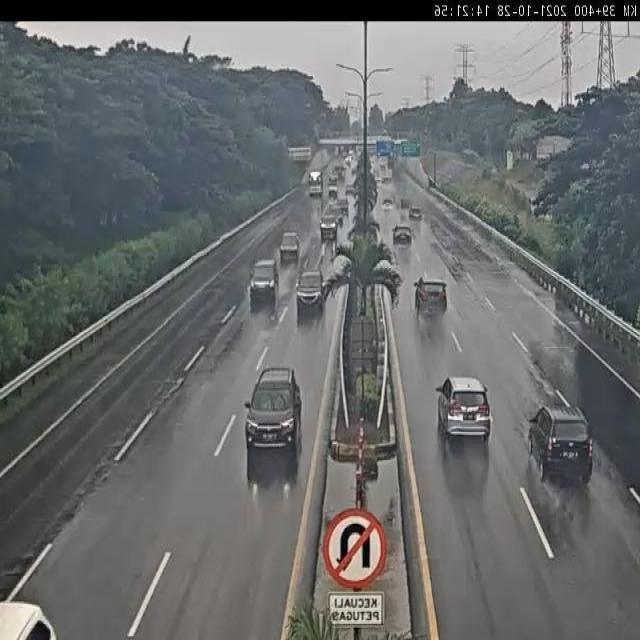Car: (527, 404, 595, 486), (241, 365, 300, 458), (435, 374, 491, 446), (411, 276, 447, 318), (248, 258, 280, 302), (295, 270, 326, 314), (279, 232, 301, 263), (391, 223, 413, 246), (408, 207, 422, 220)
